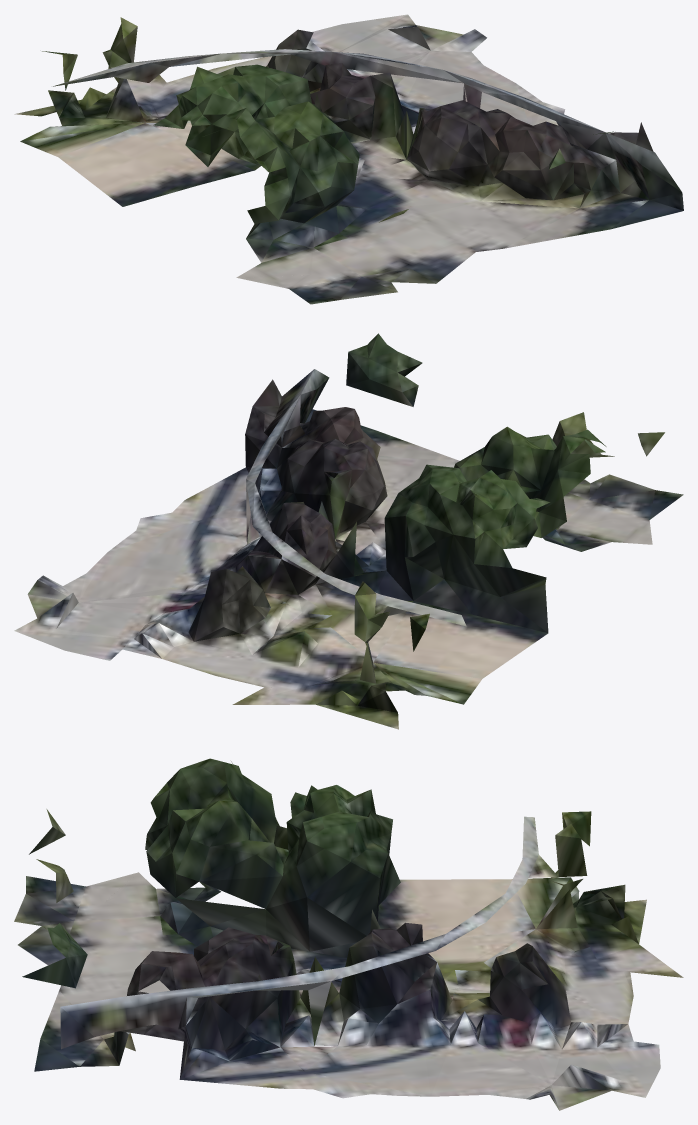
Rendered from Tile_+006_+007_L17_00.glb.
The picture shows the model from 3 angles, top to bottom: view 1: azimuth 30°, elevation 25°; view 2: azimuth 150°, elevation 25°; view 3: azimuth 270°, elevation 25°; orthographic projection. The views are drawn at different scales.
Size of the model in its own units: 48.92 by 15.13 by 59.63.
Materials: 1 (1 with a texture image).
